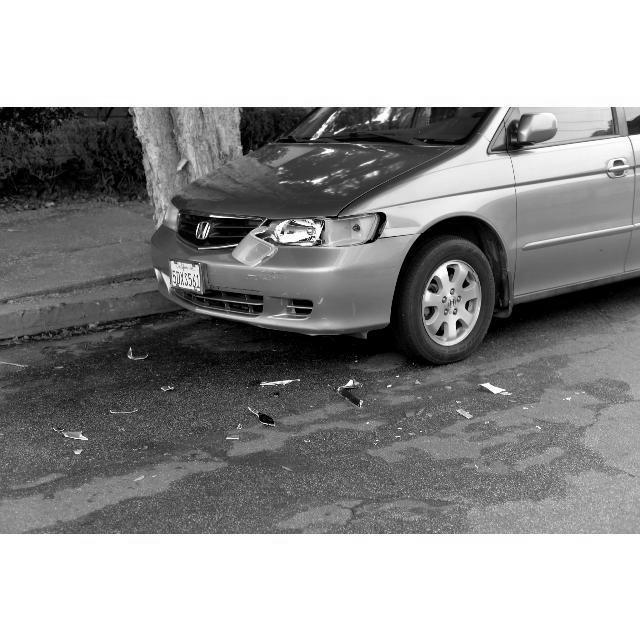Headlight-damage: (249, 209, 407, 249)
